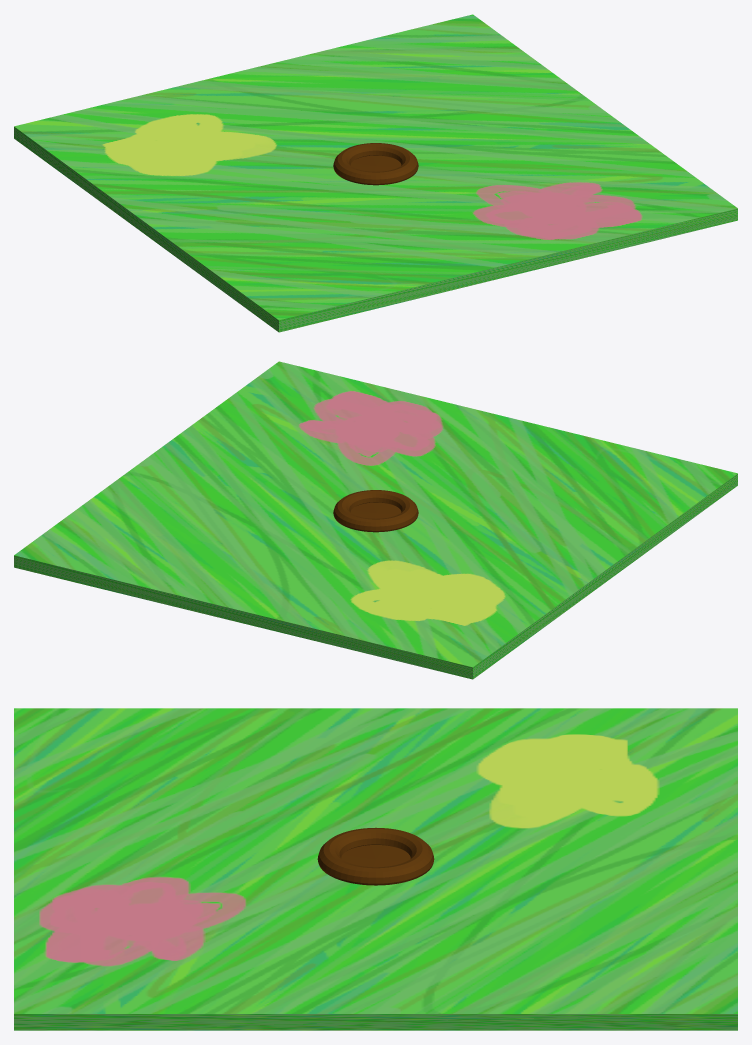
File: mole_hole.fbx
3 views of the same model, one above another, from view 1: azimuth 30°, elevation 25°; view 2: azimuth 150°, elevation 25°; view 3: azimuth 270°, elevation 25° (orthographic). The views are drawn at different scales.
Parts seen in each view (by area): view 1: ground, mole; view 2: ground, mole; view 3: ground, mole.
Part boxes in pixels (left/top/right/bottom): ground: left=14, top=14, right=737, bottom=332; mole: left=333, top=143, right=418, bottom=185; ground: left=14, top=361, right=737, bottom=679; mole: left=333, top=490, right=418, bottom=532; ground: left=14, top=708, right=737, bottom=1030; mole: left=317, top=827, right=434, bottom=885.
Bounding box in the file's own units: 4643 × 207 × 4643.
3 materials, 1 textured.
